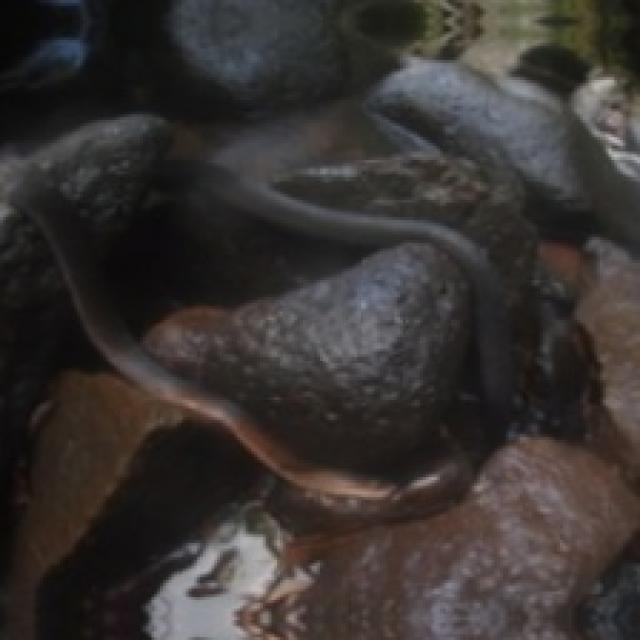reddish rat snake: (12, 161, 509, 521)
